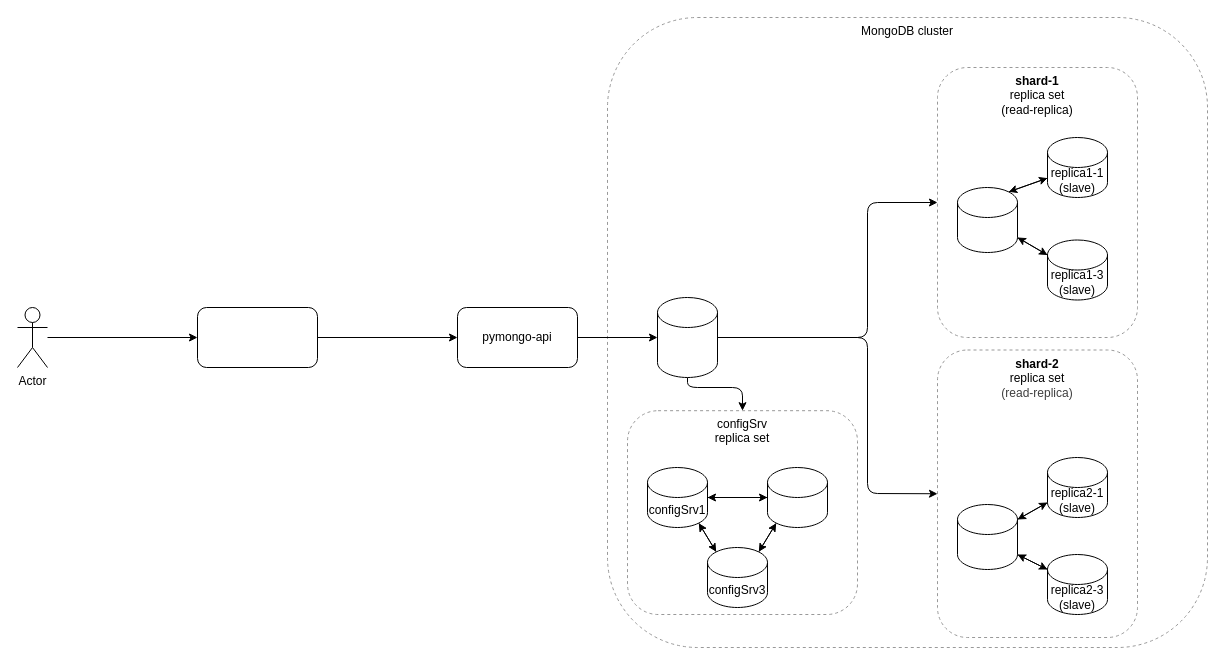
Some shapes in this 1225 by 665 pixel diagram are drawn without their labels. Each missing label, with the centre of its shape:
"configSrv2" goes at [797,497].
"mongos" goes at [687,337].
"React/Nginx" goes at [257,337].
"replica1 -2 (master)" goes at [987,219].
"replica2 -2 (master)" goes at [987,537].
